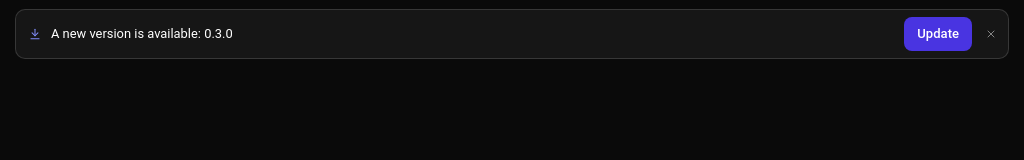
Scenario: UpdateBanner (round 7) › Update downloads, installs and relaunches through the core, once
Later steps or results of the test are not shown.
What coordinates should you click on to do the following:
click the button "Update"
I would click on:
 (938, 34)
Its box is [904, 17, 972, 51].
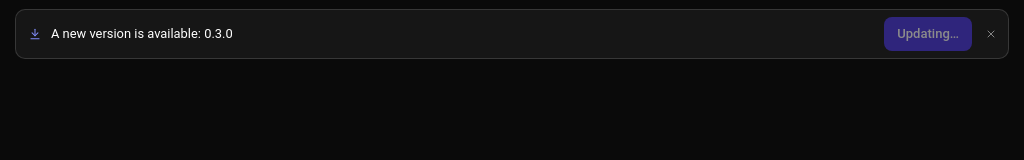
Expected: the button "Updating…" is disabled, [884, 17, 972, 51]
Expected: the button "Updating…" has attribute aria-busy="true", [884, 17, 972, 51]
